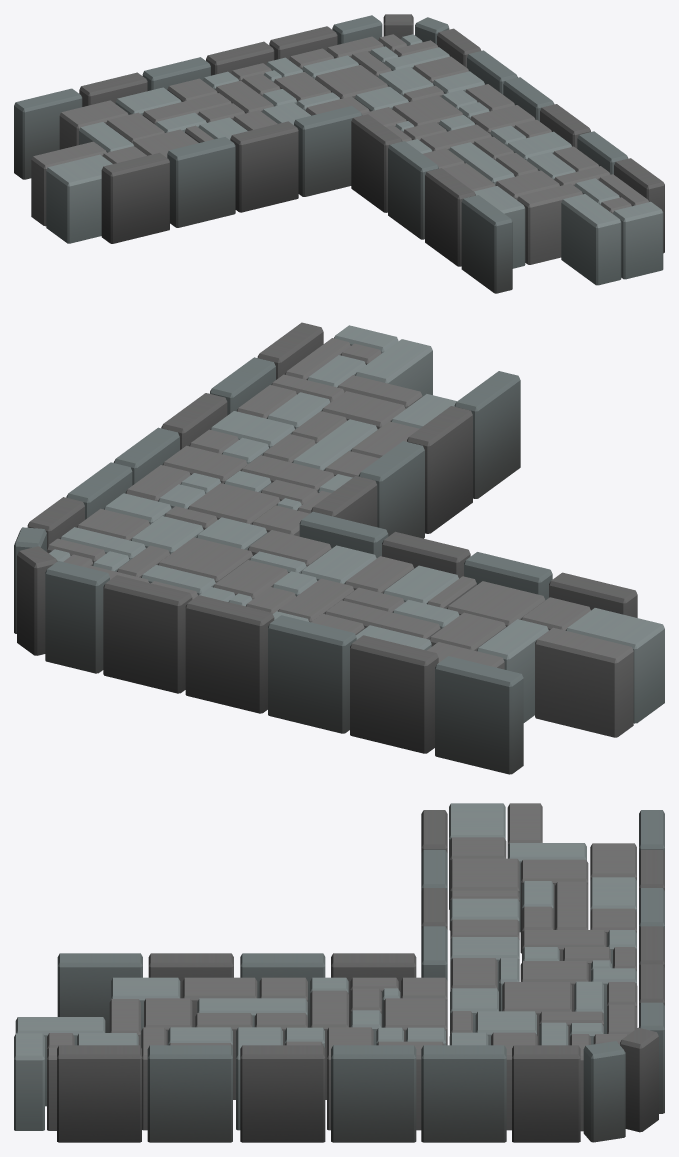
The model's file is ZLP_Road_C_2.FBX.
The picture shows the model from 3 angles, top to bottom: view 1: azimuth 30°, elevation 25°; view 2: azimuth 150°, elevation 25°; view 3: azimuth 270°, elevation 25°; orthographic projection. The views are drawn at different scales.
Parts seen in each view (by area): view 1: ZLP_Road_C_2; view 2: ZLP_Road_C_2; view 3: ZLP_Road_C_2.
Boxes of the visible parts, x1,y1,x2,y2 form: ZLP_Road_C_2: (14,14,664,293); ZLP_Road_C_2: (14,322,664,774); ZLP_Road_C_2: (14,803,664,1142).
Size of the model in its own units: 565 by 86.54 by 585.
